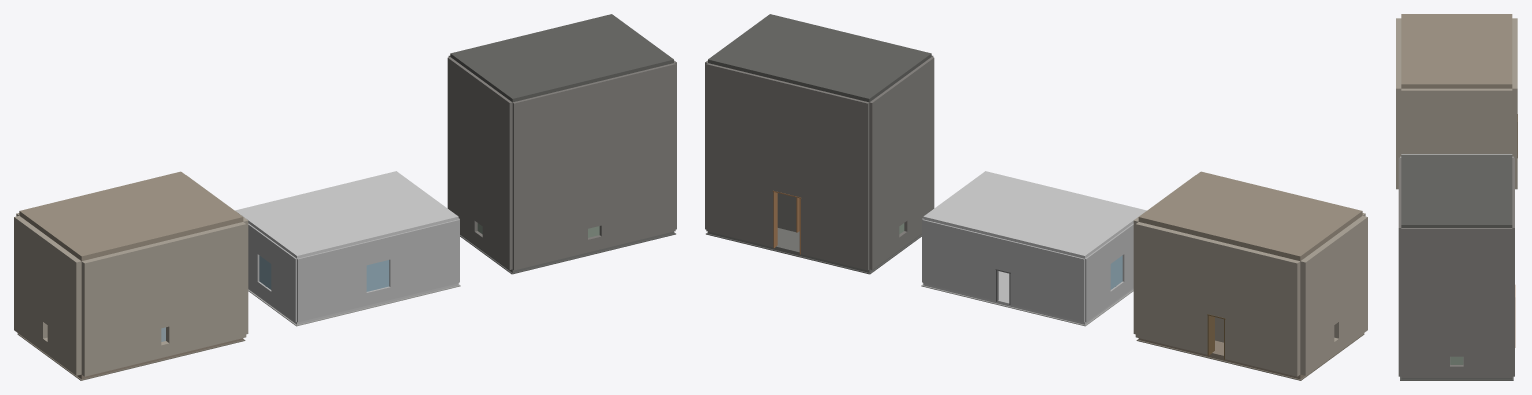
Rendered from trained.glb.
3 views of the same model, side by side, from view 1: azimuth 30°, elevation 25°; view 2: azimuth 150°, elevation 25°; view 3: azimuth 270°, elevation 25° (orthographic). The views are drawn at different scales.
Parts seen in each view (by area): view 1: industrial_008, industrial_011, medieval_002, industrial_002, modern_002, medieval_008, medieval_011, industrial_016, industrial_013, modern_011, modern_008, medieval_016 (+9 smaller); view 2: industrial_018, industrial_020, medieval_002, industrial_002, modern_002, medieval_018, medieval_020, industrial_013, modern_018, modern_020, industrial_016, medieval_013 (+10 smaller); view 3: medieval_002, industrial_002, industrial_003, industrial_006, medieval_006, medieval_003, industrial_005, industrial_011, medieval_011, medieval_020, medieval_005, industrial_020 (+7 smaller).
Boxes of the visible parts, <box> form: industrial_008: <box>512,84,587,270</box>; industrial_011: <box>599,63,675,248</box>; medieval_002: <box>19,171,243,261</box>; industrial_002: <box>450,14,673,102</box>; modern_002: <box>235,171,458,258</box>; medieval_008: <box>81,242,161,376</box>; medieval_011: <box>166,222,246,355</box>; industrial_016: <box>482,82,512,269</box>; industrial_013: <box>447,57,477,243</box>; modern_011: <box>389,219,459,299</box>; modern_008: <box>297,242,366,322</box>; medieval_016: <box>47,240,81,375</box>; industrial_018: <box>800,86,869,270</box>; industrial_020: <box>706,63,774,247</box>; medieval_002: <box>1138,171,1362,261</box>; industrial_002: <box>708,14,931,102</box>; modern_002: <box>923,171,1146,258</box>; medieval_018: <box>1224,243,1300,376</box>; medieval_020: <box>1135,222,1210,354</box>; industrial_013: <box>869,82,899,269</box>; modern_018: <box>1010,241,1084,322</box>; modern_020: <box>922,219,996,300</box>; industrial_016: <box>904,57,934,243</box>; medieval_013: <box>1300,240,1334,375</box>; medieval_002: <box>1401,14,1512,88</box>; industrial_002: <box>1401,154,1512,227</box>; industrial_003: <box>1463,228,1512,377</box>; industrial_006: <box>1401,228,1449,377</box>; medieval_006: <box>1401,88,1452,153</box>; medieval_003: <box>1461,88,1512,153</box>; industrial_005: <box>1450,228,1463,356</box>; industrial_011: <box>1398,195,1401,376</box>; medieval_011: <box>1396,55,1401,189</box>; medieval_020: <box>1512,57,1517,189</box>; medieval_005: <box>1452,88,1460,153</box>; industrial_020: <box>1512,198,1514,376</box>.
Size of the model in its own units: 44.59 by 12.49 by 8.8.
